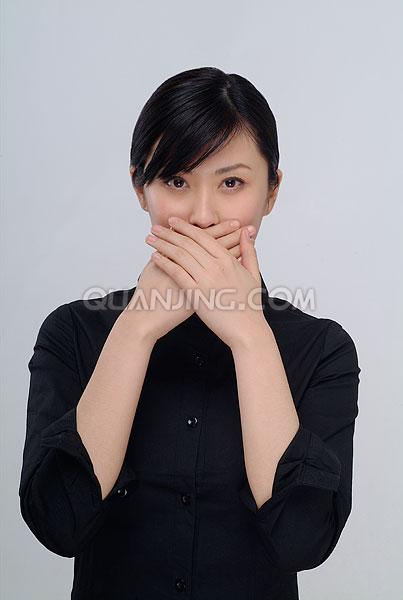face: (147, 115, 262, 286)
